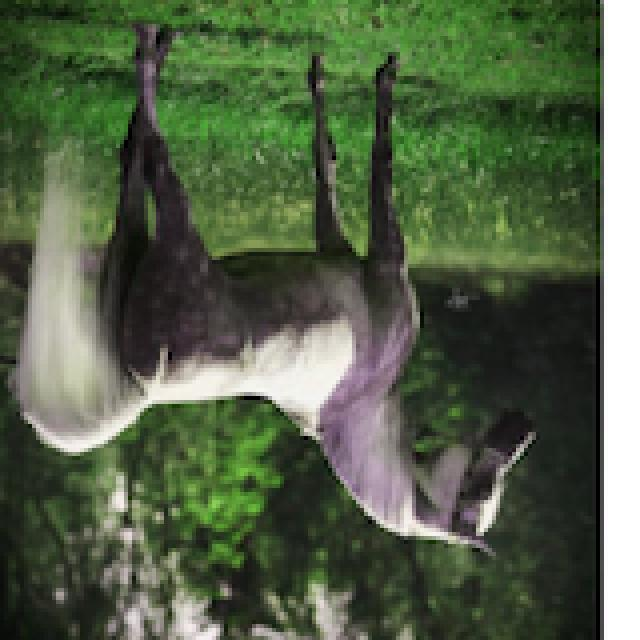Horse: (0, 20, 540, 564)
